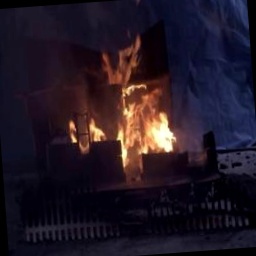fire: (78, 33, 183, 171)
